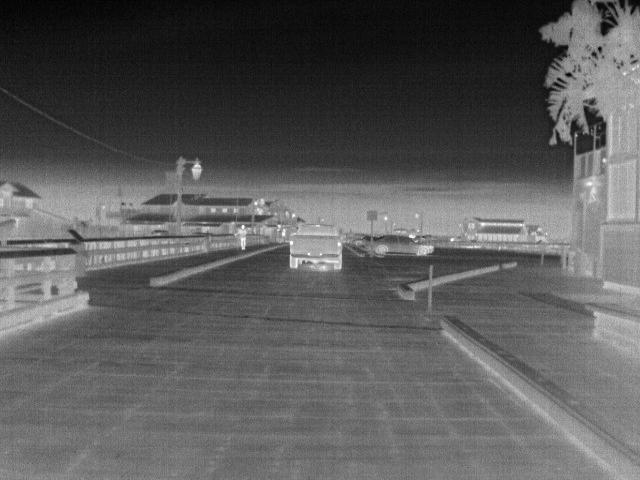car: (287, 222, 343, 271), (373, 230, 436, 257)
person: (236, 223, 250, 254)
